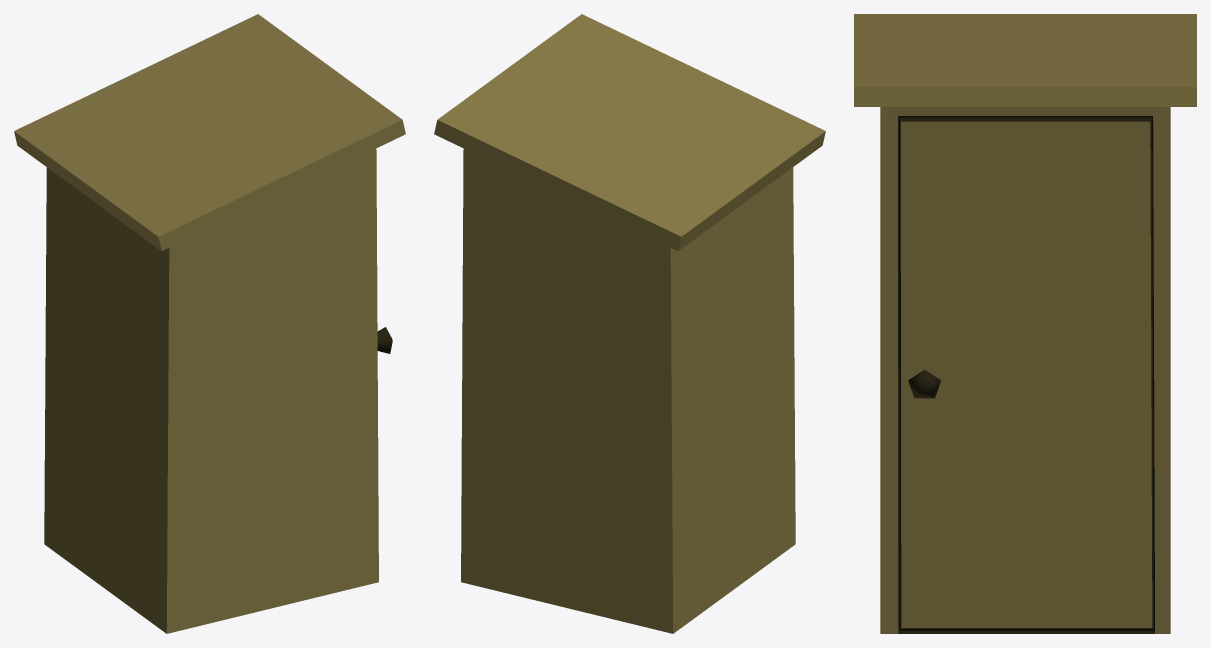
The model's file is toilet.fbx.
The picture shows the model from 3 angles, left to right: view 1: azimuth 30°, elevation 25°; view 2: azimuth 150°, elevation 25°; view 3: azimuth 270°, elevation 25°; orthographic projection. The views are drawn at different scales.
Parts seen in each view (by area): view 1: pCube3; view 2: pCube3; view 3: pCube3.
Boxes of the visible parts, box(x1,y1,x2,y2) form: pCube3: box(14, 14, 405, 633); pCube3: box(434, 14, 825, 633); pCube3: box(854, 14, 1196, 633).
Bounding box in the file's own units: 1.05 × 1.78 × 0.9994.
